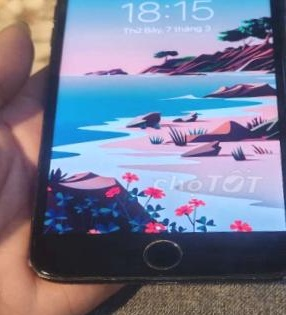scratch: (78, 266, 286, 284), (270, 110, 286, 267), (134, 232, 189, 272), (25, 256, 56, 282)
